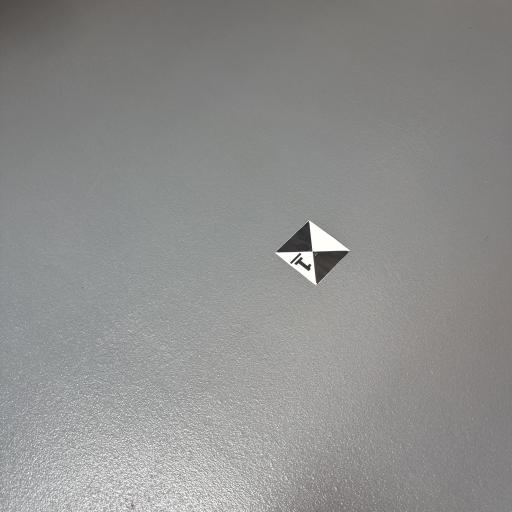target1: (275, 216, 356, 291)
